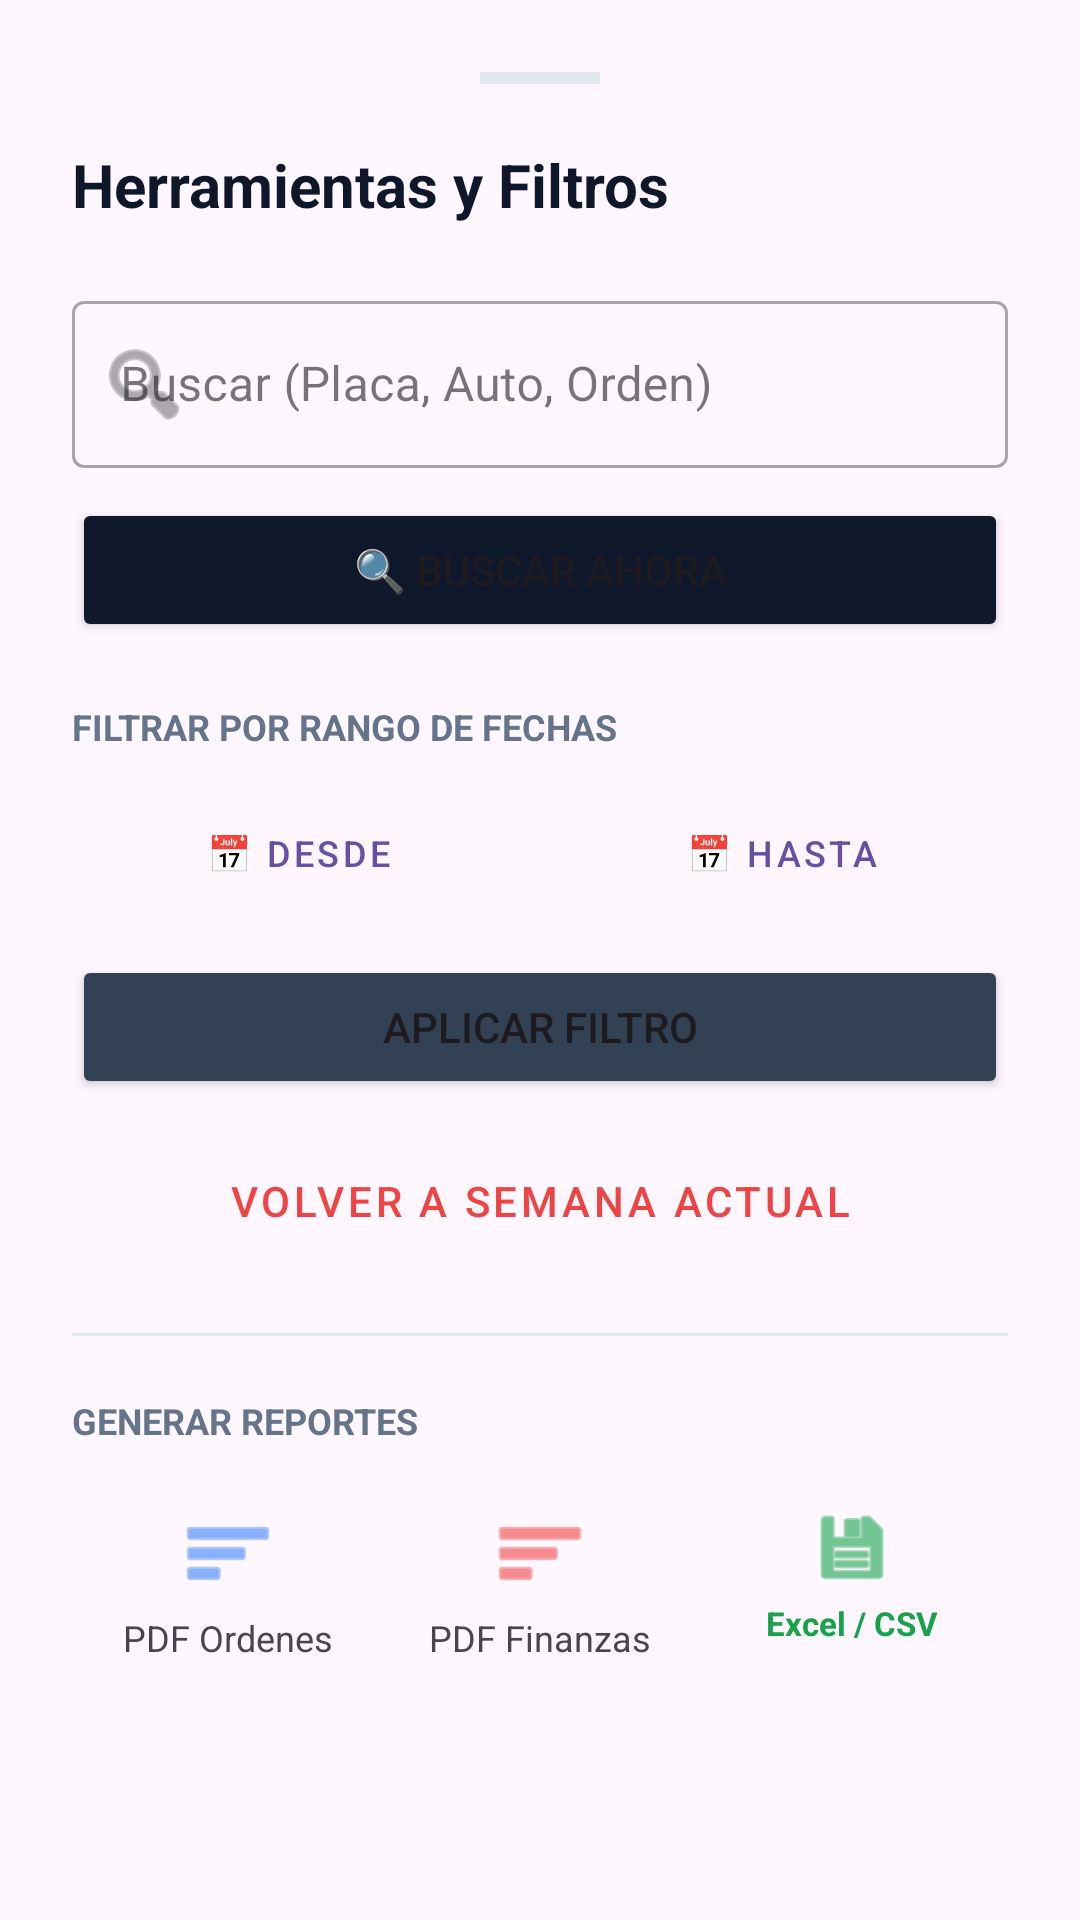

Screen size 1080px x 1920px. Icon name, then its center in pixels as (x,y):
save: (852,1547)
sort by size: (228,1553), (540,1553)
